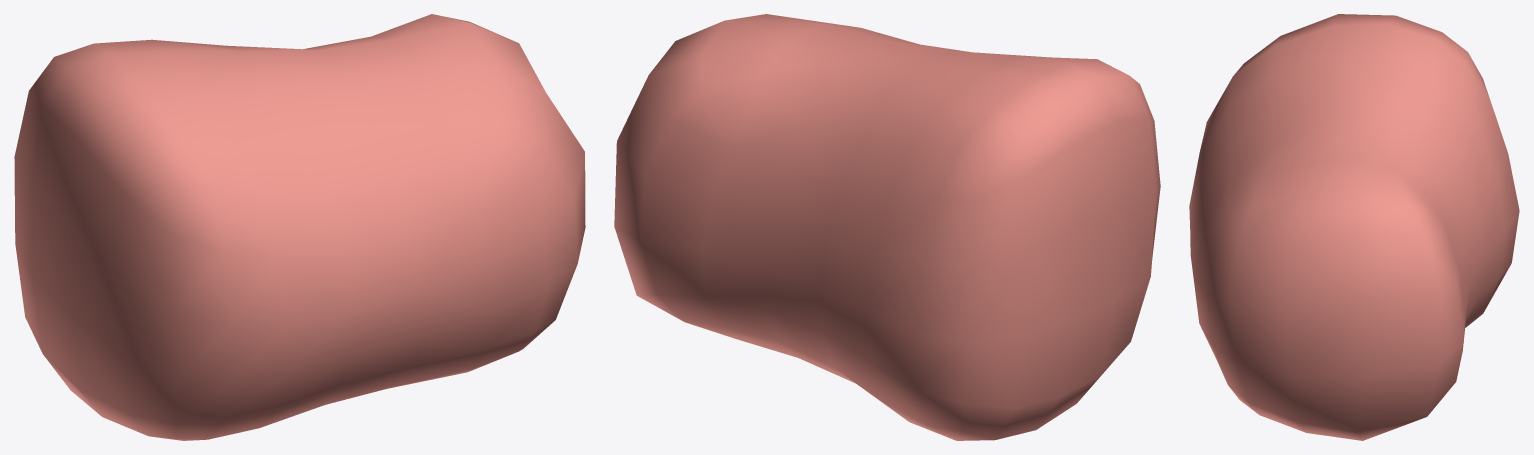
The model's file is mixamo_humanoid_surface_leftHandRing1.fbx.
The picture shows the model from 3 angles, left to right: view 1: azimuth 30°, elevation 25°; view 2: azimuth 150°, elevation 25°; view 3: azimuth 270°, elevation 25°; orthographic projection. The views are drawn at different scales.
Parts seen in each view (by area): view 1: surface_LeftHandRing1; view 2: surface_LeftHandRing1; view 3: surface_LeftHandRing1.
Part boxes in pixels (box(x1,y1,x2,y2)): surface_LeftHandRing1: box(14, 14, 585, 440); surface_LeftHandRing1: box(614, 14, 1160, 440); surface_LeftHandRing1: box(1189, 14, 1519, 440).
Bounding box in the file's own units: 3.34 × 2.34 × 2.39.
